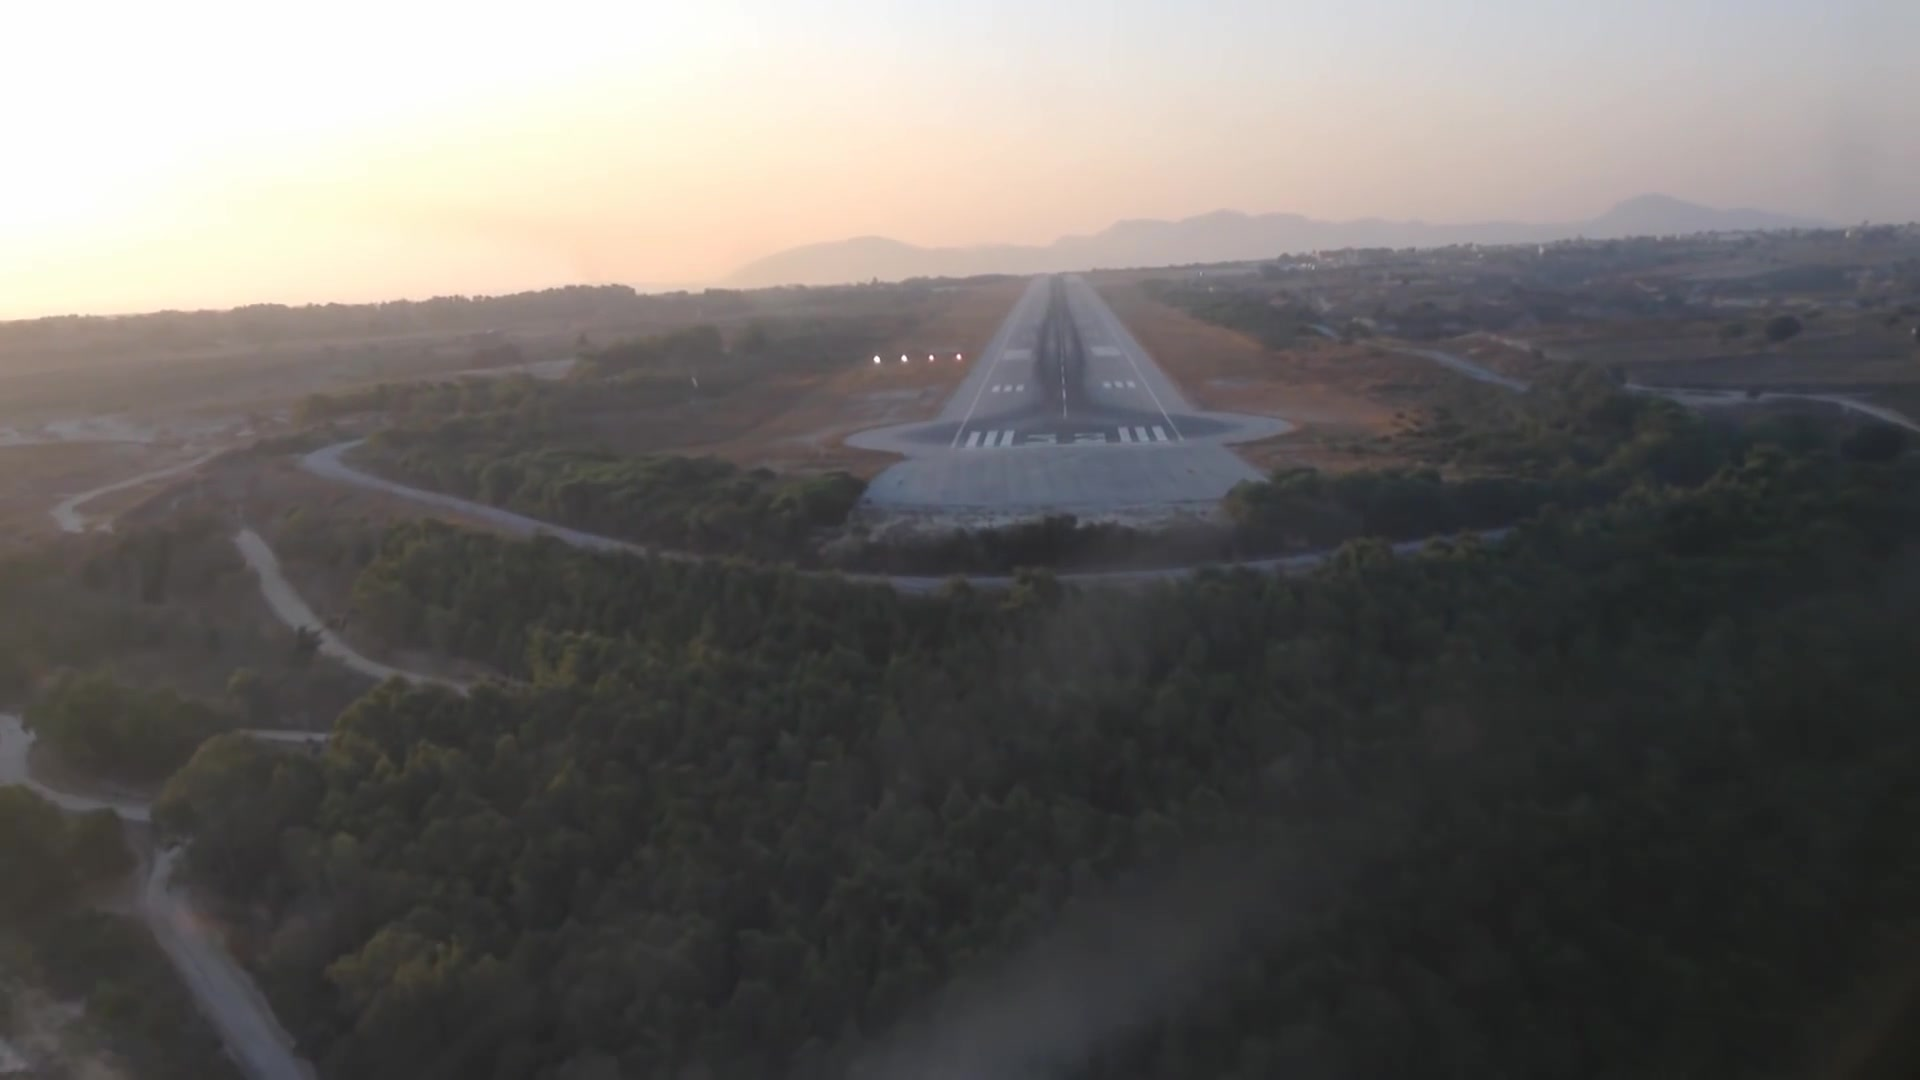entrance: (963, 426, 1175, 455)
runway: (911, 266, 1222, 472)
